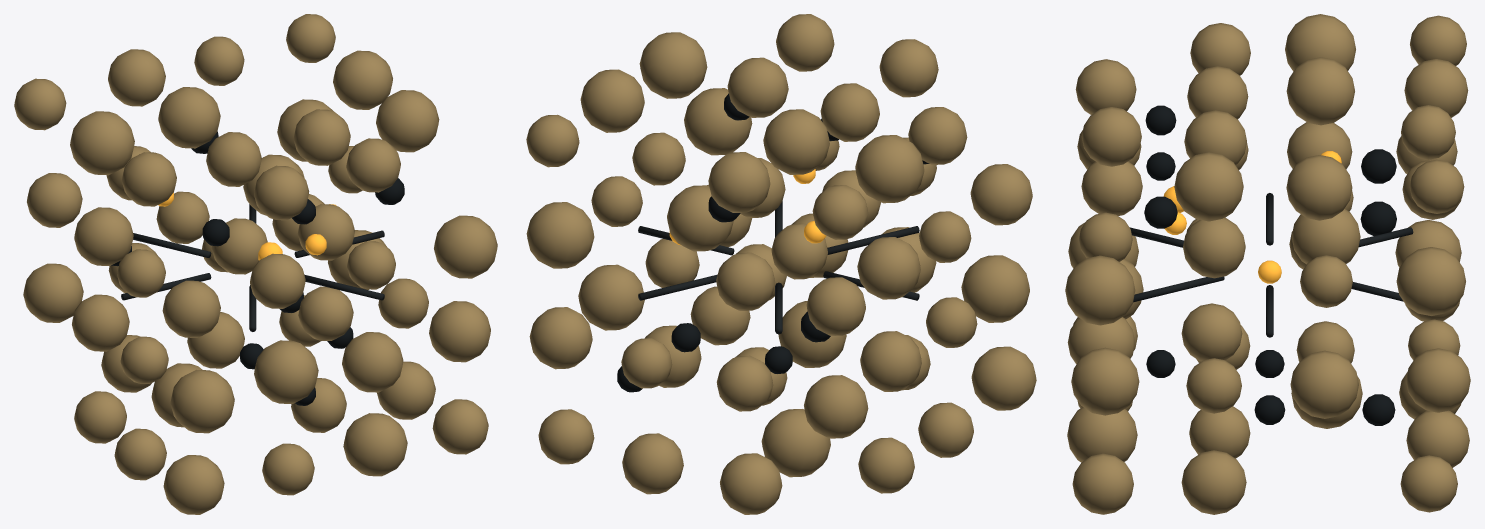
File: reservoir_micro.glb
3 views of the same model, side by side, from view 1: azimuth 30°, elevation 25°; view 2: azimuth 150°, elevation 25°; view 3: azimuth 270°, elevation 25° (orthographic). The views are drawn at different scales.
Visible parts, largest first — view 1: micro_grains, micro_pores, micro_throats, micro_oil_saturation; view 2: micro_grains, micro_pores, micro_throats, micro_oil_saturation; view 3: micro_grains, micro_pores, micro_throats, micro_oil_saturation.
Part boxes in pixels (<box>): micro_grains: <box>14,14,497,514</box>; micro_pores: <box>111,131,404,405</box>; micro_throats: <box>121,204,384,331</box>; micro_oil_saturation: <box>158,192,336,260</box>; micro_grains: <box>526,14,1036,514</box>; micro_pores: <box>617,93,929,392</box>; micro_throats: <box>638,201,919,334</box>; micro_oil_saturation: <box>669,169,826,244</box>; micro_grains: <box>1065,14,1470,514</box>; micro_pores: <box>1144,105,1396,425</box>; micro_throats: <box>1129,193,1413,337</box>; micro_oil_saturation: <box>1163,151,1341,283</box>.
Bounding box in the file's own units: 3.74 × 3.72 × 3.72.
